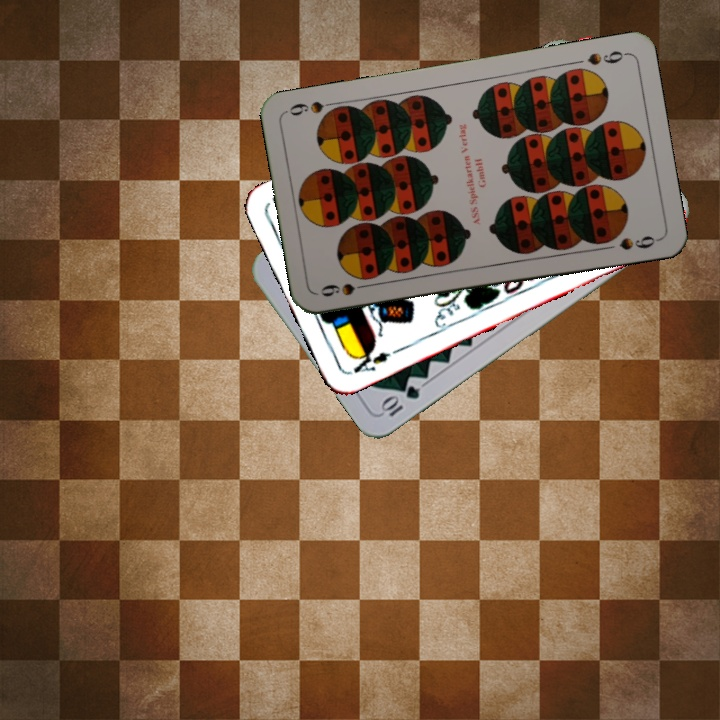EA: (348, 345, 393, 376)
G10: (377, 381, 423, 420)
S9: (317, 279, 375, 300), (583, 46, 630, 68)
